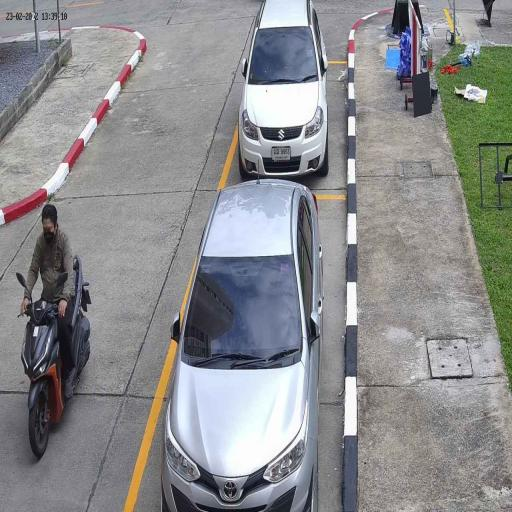car: (160, 177, 326, 512), (236, 0, 332, 184)
motorcycle: (20, 295, 92, 462)
